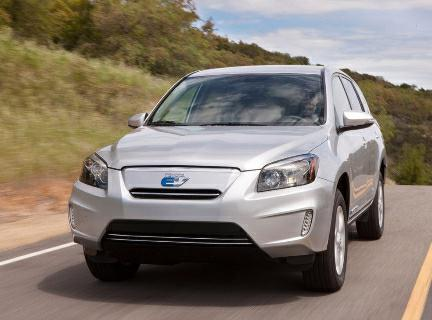丰田-Hilux: (65, 56, 399, 304)
